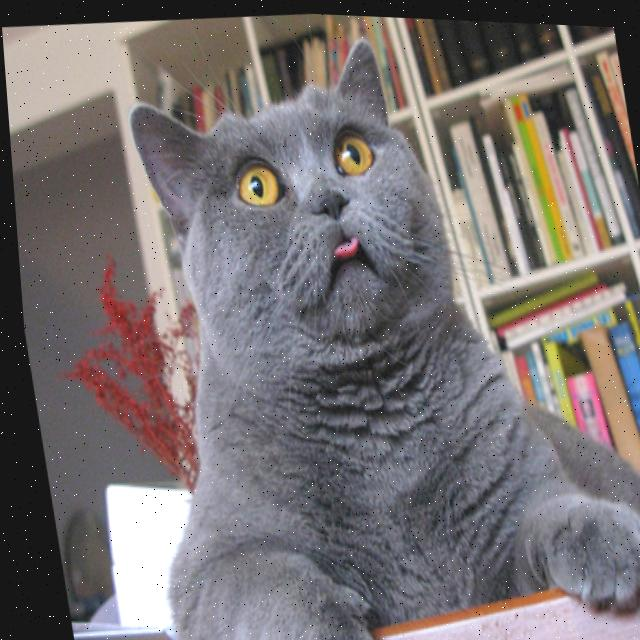British Shorthair: (72, 3, 640, 640)
